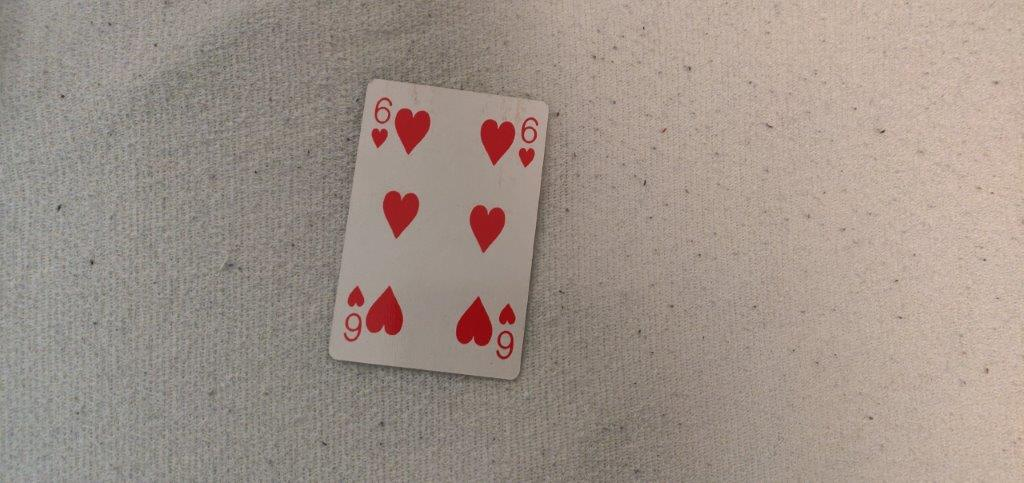6H: (518, 113, 540, 174), (371, 92, 393, 150)
